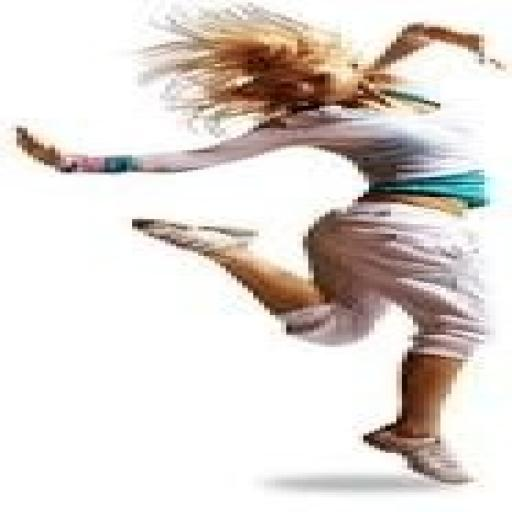dancing: (11, 0, 506, 487)
